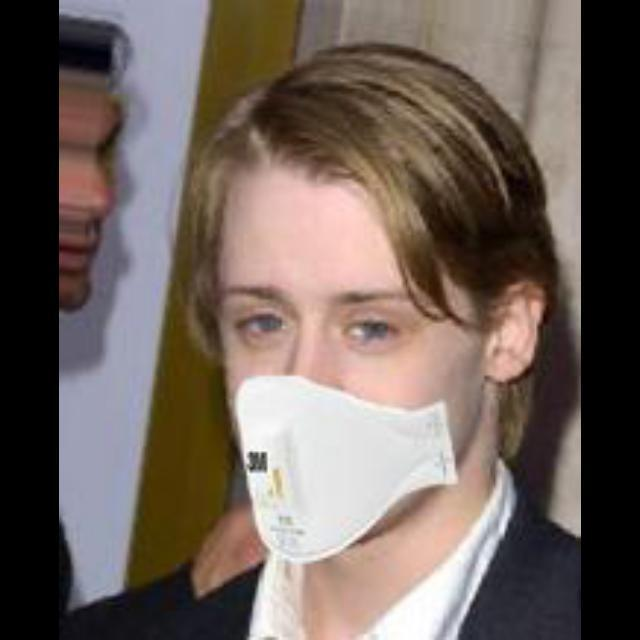suspicion: (187, 115, 495, 590)
